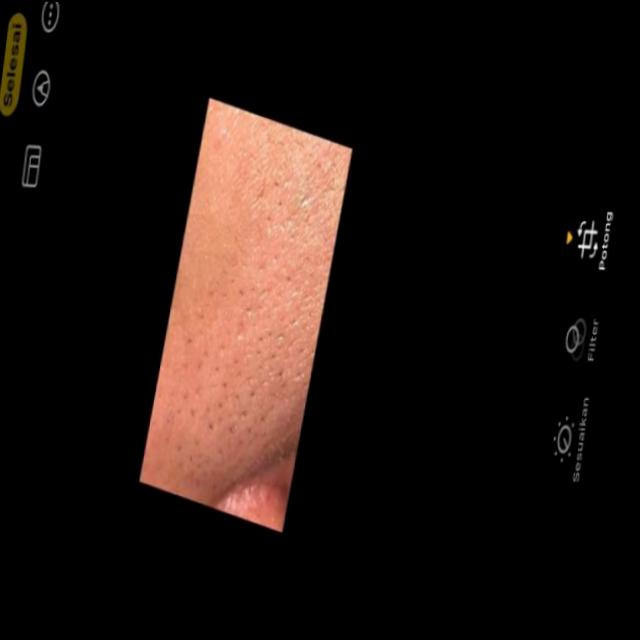blackhead: (183, 174, 317, 485)
